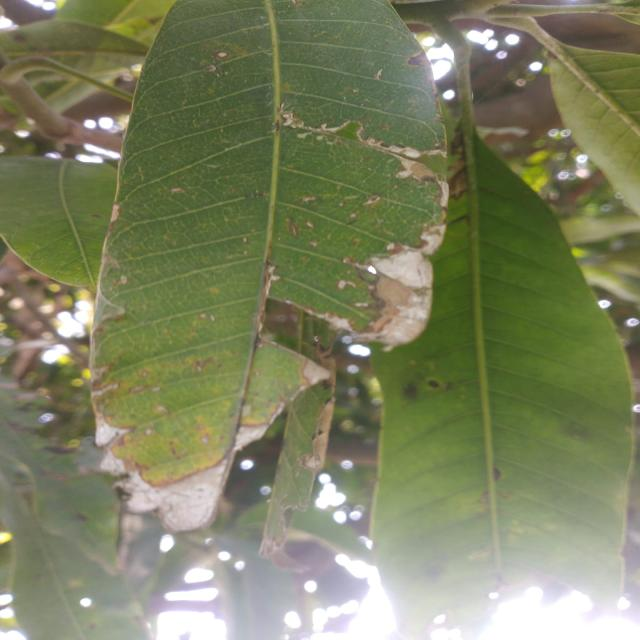Bacterial Cancer: (93, 422, 224, 511), (313, 113, 448, 175), (379, 244, 435, 354)
